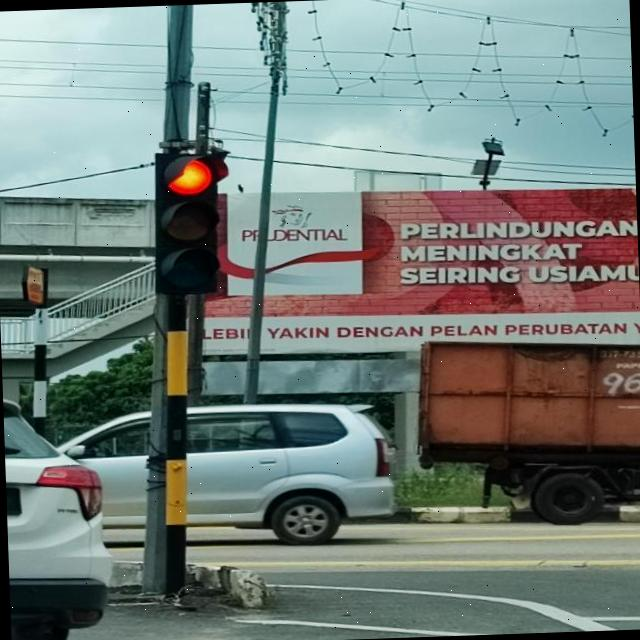red_light: (150, 152, 233, 294)
